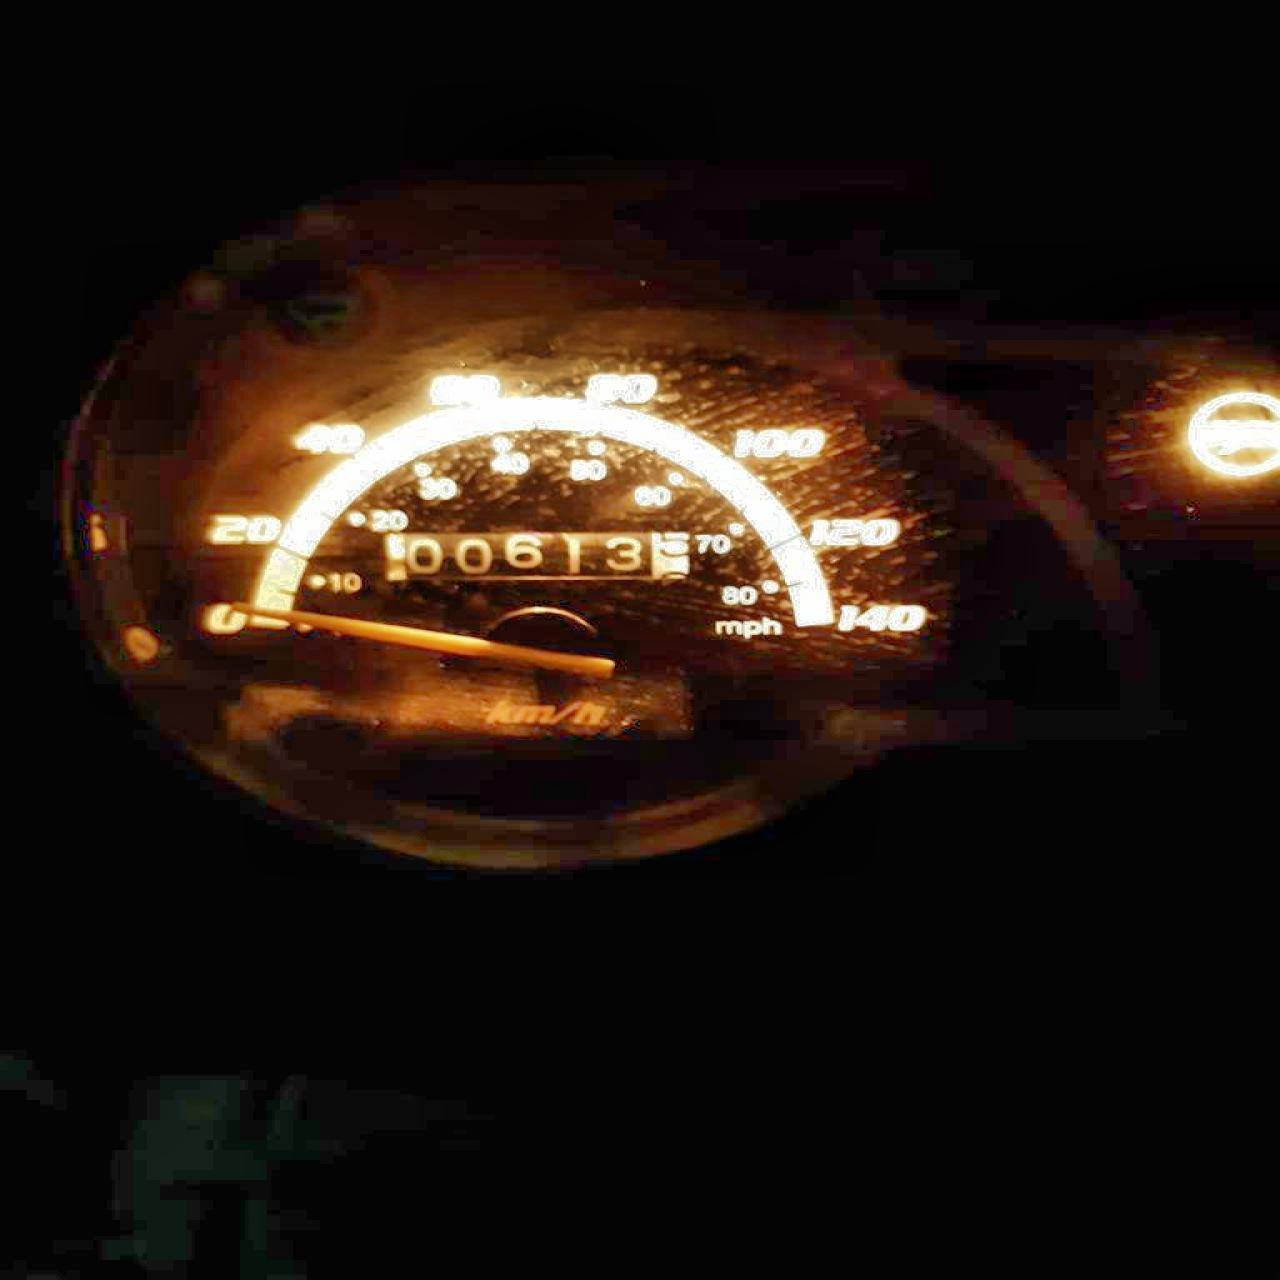0: (404, 535, 443, 576), (454, 536, 492, 576)
1: (558, 535, 587, 576)
3: (601, 533, 645, 572)
5: (656, 529, 692, 559)
6: (499, 532, 543, 570)
odometer: (375, 524, 693, 585)
